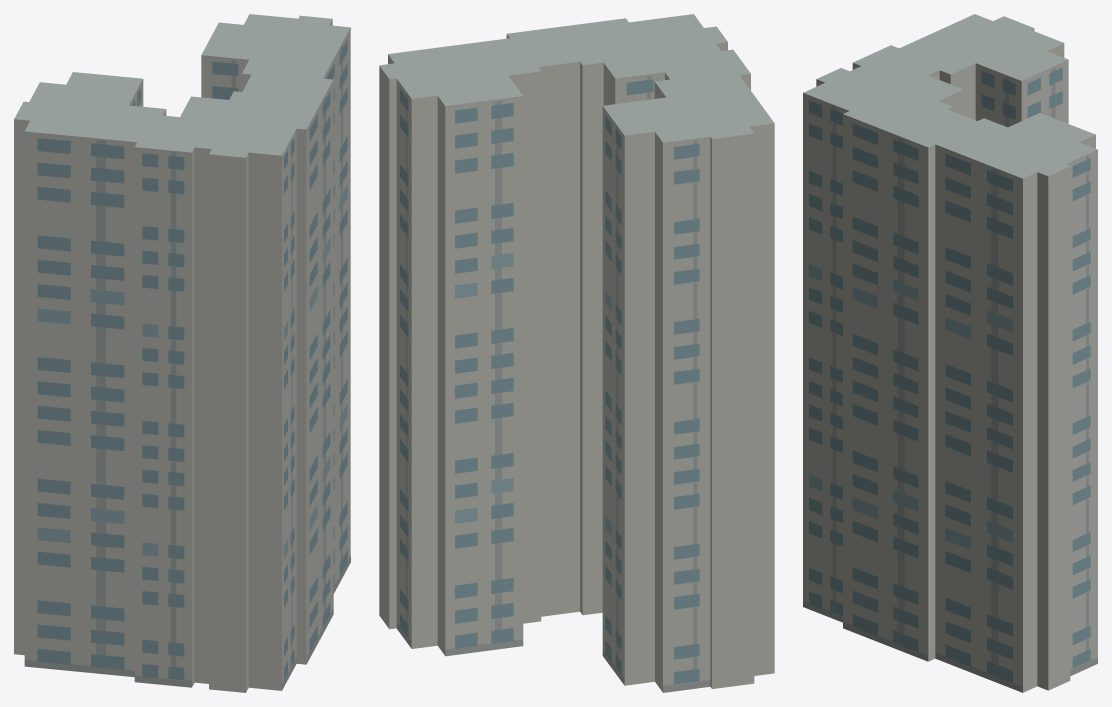
File: residential-10f4b9b8-02e1-4200-be80-16de59c5958f.glb
3 renders of one model, left to right at view 1: azimuth 30°, elevation 25°; view 2: azimuth 150°, elevation 25°; view 3: azimuth 270°, elevation 25°, orthographic. The views are drawn at different scales.
Parts seen in each view (by area): view 1: residential-10f4b9b8-02e1-4200-be80-16de59c5958f.tmp; view 2: residential-10f4b9b8-02e1-4200-be80-16de59c5958f.tmp; view 3: residential-10f4b9b8-02e1-4200-be80-16de59c5958f.tmp.
Boxes of the visible parts, x1,y1,x2,y2 form: residential-10f4b9b8-02e1-4200-be80-16de59c5958f.tmp: (14,14,350,692); residential-10f4b9b8-02e1-4200-be80-16de59c5958f.tmp: (379,14,774,692); residential-10f4b9b8-02e1-4200-be80-16de59c5958f.tmp: (803,14,1097,692).
Size of the model in its own units: 48.78 by 71 by 36.89.
